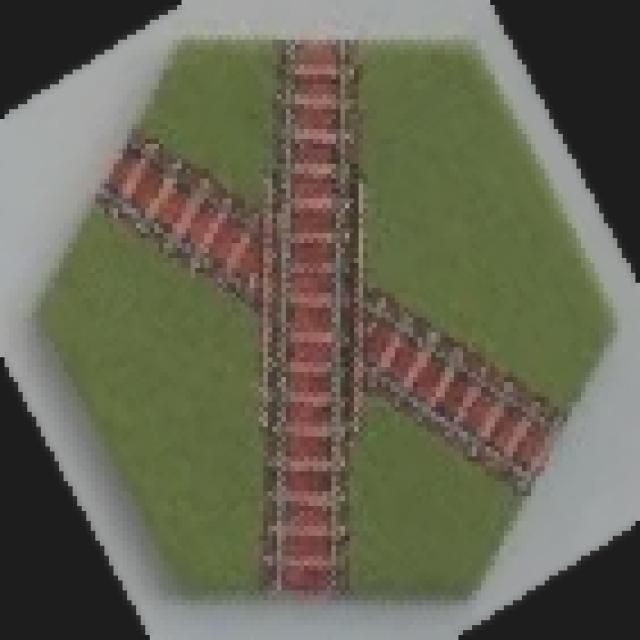9_2: (39, 33, 617, 605)
